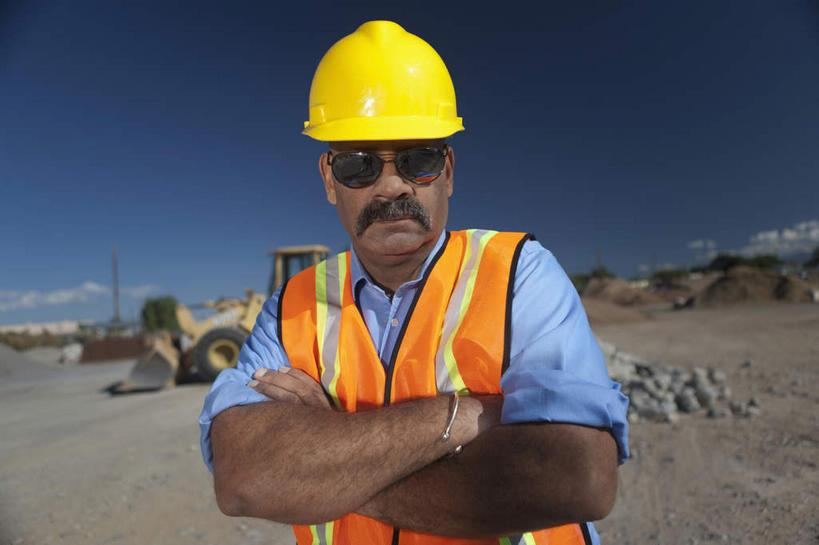helmet: (306, 18, 469, 140)
